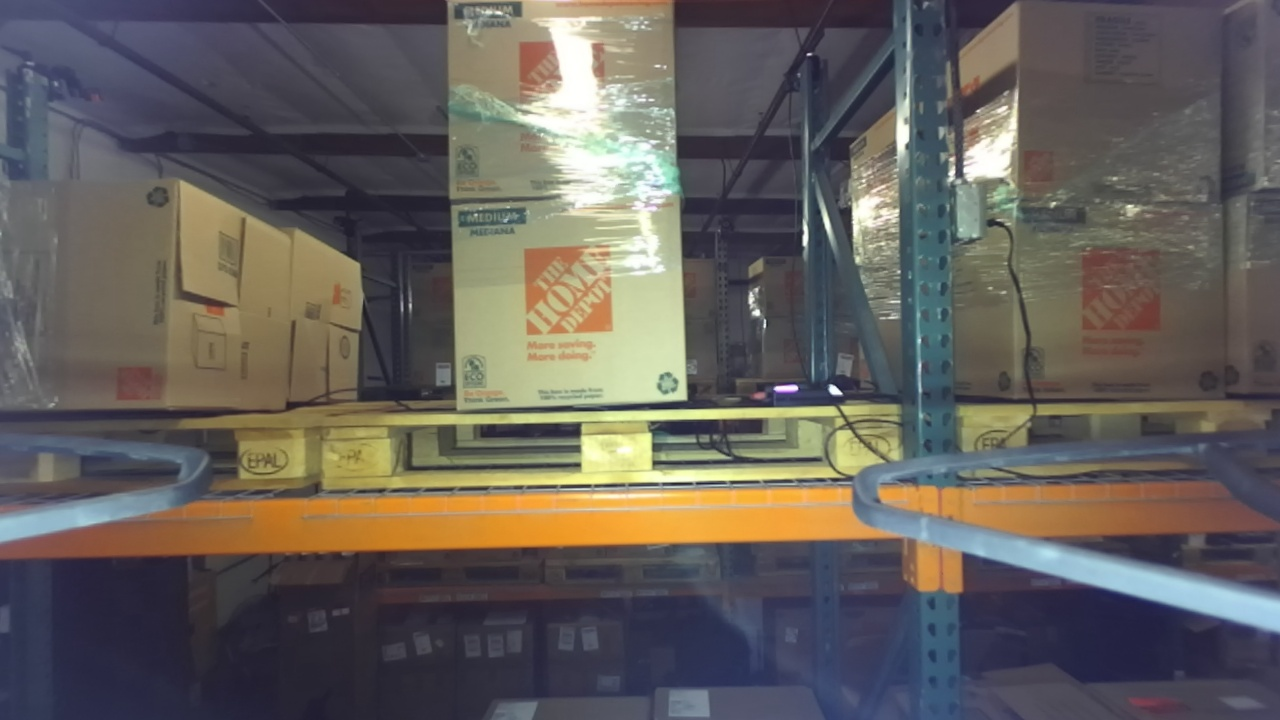box: (434, 192, 702, 407), (439, 1, 697, 210), (991, 3, 1226, 218), (991, 216, 1238, 410)
